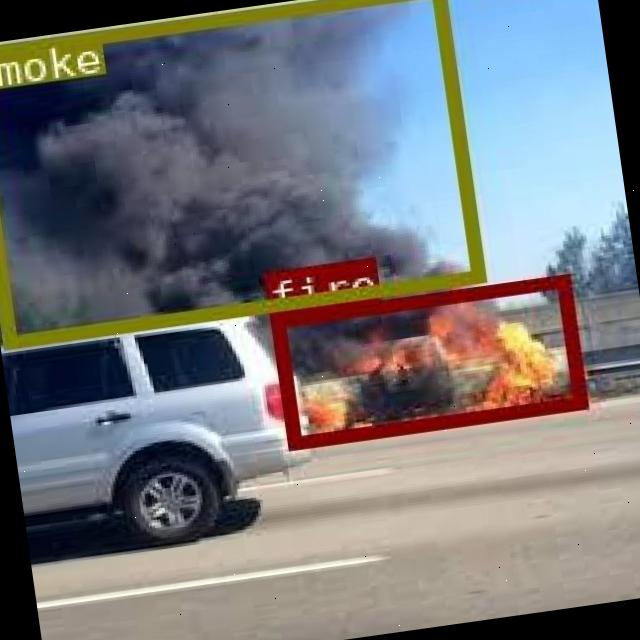fire: (268, 272, 586, 449)
smoke: (0, 0, 483, 347)
